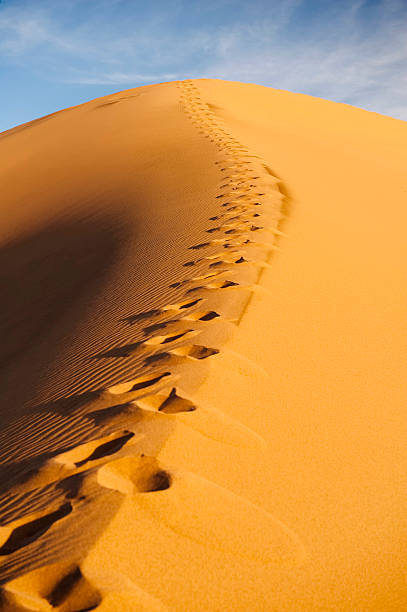animal_foot_print: (0, 81, 300, 562), (0, 372, 163, 519), (8, 367, 173, 494), (0, 428, 139, 577), (18, 368, 173, 490), (137, 470, 306, 567), (207, 112, 278, 269), (99, 298, 202, 405), (179, 82, 275, 193), (0, 392, 97, 490), (2, 389, 102, 483), (84, 386, 174, 477), (139, 387, 265, 450), (138, 387, 264, 448), (87, 372, 177, 450), (0, 453, 81, 522), (177, 390, 266, 451), (143, 298, 217, 365), (3, 562, 102, 611), (80, 370, 173, 420), (0, 502, 71, 556), (97, 319, 195, 358), (52, 430, 137, 472), (142, 297, 205, 348), (144, 323, 217, 365), (97, 454, 171, 494), (122, 298, 201, 333), (100, 571, 167, 611), (45, 565, 101, 609), (154, 308, 220, 345), (156, 289, 206, 335), (75, 432, 135, 467), (145, 329, 201, 364), (0, 487, 43, 526), (51, 466, 94, 504), (138, 387, 196, 413), (106, 371, 170, 394), (134, 456, 171, 492), (87, 401, 138, 425), (158, 387, 195, 413), (146, 329, 198, 346), (225, 196, 260, 220), (0, 587, 35, 611), (95, 341, 143, 358), (223, 206, 252, 233), (209, 252, 250, 270), (220, 177, 255, 198), (94, 94, 141, 109), (224, 204, 252, 229), (221, 230, 246, 258), (209, 250, 242, 271), (143, 317, 179, 336), (182, 270, 224, 286), (138, 470, 170, 491), (171, 345, 218, 359), (221, 193, 253, 213), (146, 330, 191, 344), (223, 210, 251, 232), (219, 211, 245, 234), (222, 202, 249, 224), (122, 309, 160, 324), (224, 168, 260, 183), (219, 176, 254, 190), (164, 298, 202, 310), (247, 222, 281, 235), (191, 270, 230, 281), (246, 239, 280, 251), (223, 210, 248, 226), (233, 147, 261, 161), (144, 351, 170, 366), (185, 310, 220, 321), (182, 254, 214, 266), (216, 181, 237, 199), (225, 183, 254, 196), (233, 190, 265, 201), (232, 177, 257, 191), (222, 172, 251, 184), (262, 163, 280, 182), (185, 277, 203, 296), (219, 159, 249, 170), (218, 198, 230, 225), (216, 180, 233, 198), (205, 251, 225, 266), (244, 284, 271, 295), (220, 237, 244, 249), (207, 279, 238, 288), (213, 235, 236, 247), (244, 259, 272, 268), (186, 283, 205, 294), (264, 227, 286, 236), (188, 241, 210, 249), (209, 258, 228, 267), (96, 100, 119, 107), (222, 202, 239, 211), (220, 164, 241, 171), (169, 280, 187, 288), (224, 227, 243, 234), (206, 226, 222, 234), (248, 224, 263, 231), (221, 201, 232, 210), (235, 256, 247, 264), (198, 124, 206, 136), (183, 260, 195, 266), (242, 238, 253, 244), (235, 255, 244, 262), (219, 183, 228, 189), (209, 215, 219, 220), (254, 192, 265, 196), (251, 201, 261, 205), (215, 194, 224, 198), (214, 160, 223, 164), (252, 213, 259, 217), (251, 176, 259, 179)
